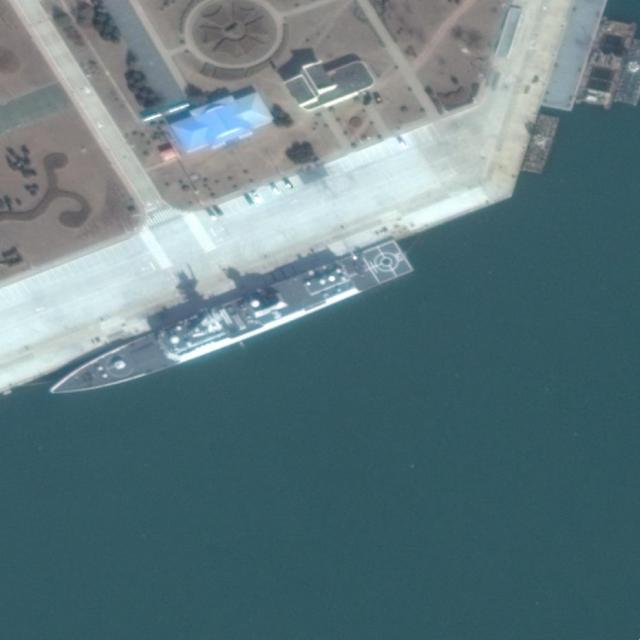Auxiliary Ships: (38, 232, 415, 414)
